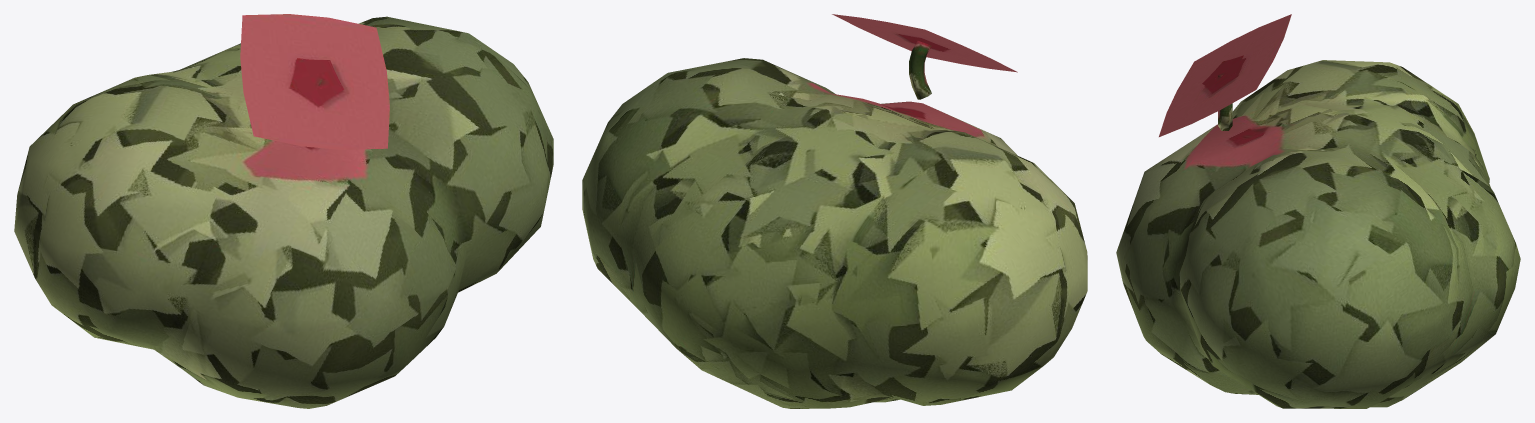
The model's file is flower_red.glb.
3 renders of one model, left to right at view 1: azimuth 30°, elevation 25°; view 2: azimuth 150°, elevation 25°; view 3: azimuth 270°, elevation 25°, orthographic. The views are drawn at different scales.
Visible parts, largest first — view 1: flower_red_lod0; view 2: flower_red_lod0; view 3: flower_red_lod0.
Part boxes in pixels (<box>): flower_red_lod0: <box>14,14,553,408</box>; flower_red_lod0: <box>582,14,1087,408</box>; flower_red_lod0: <box>1116,14,1520,408</box>.
Size of the model in its own units: 0.5582 by 0.421 by 0.4397.
1 material, 1 textured.
